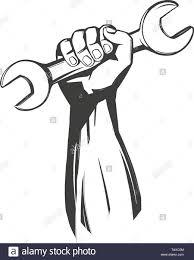wrench: (0, 0, 193, 110)
